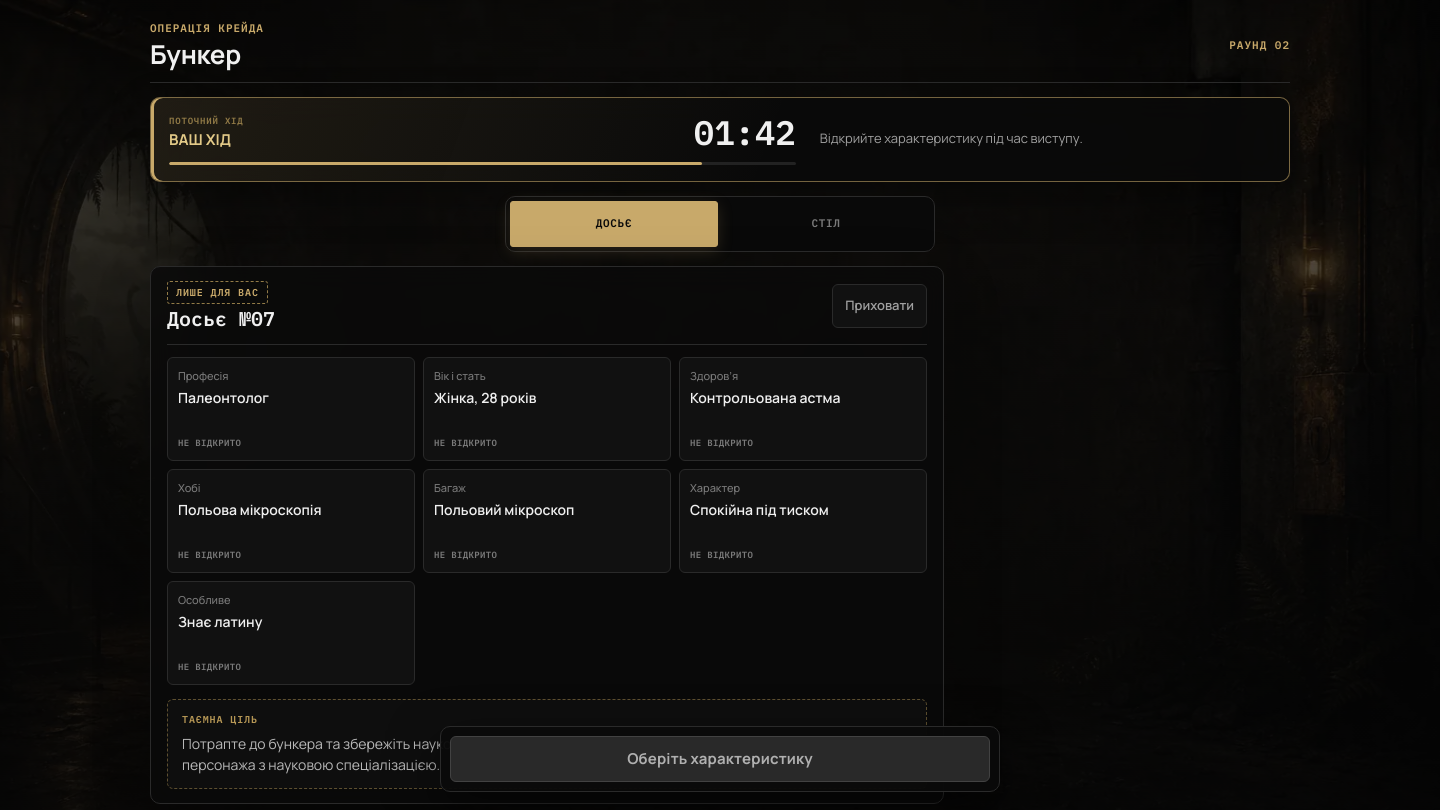
Test: App interactions › hides and restores the private dossier
Click the button "Приховати": {"x": 880, "y": 306} x1=832 y1=284 x2=927 y2=328
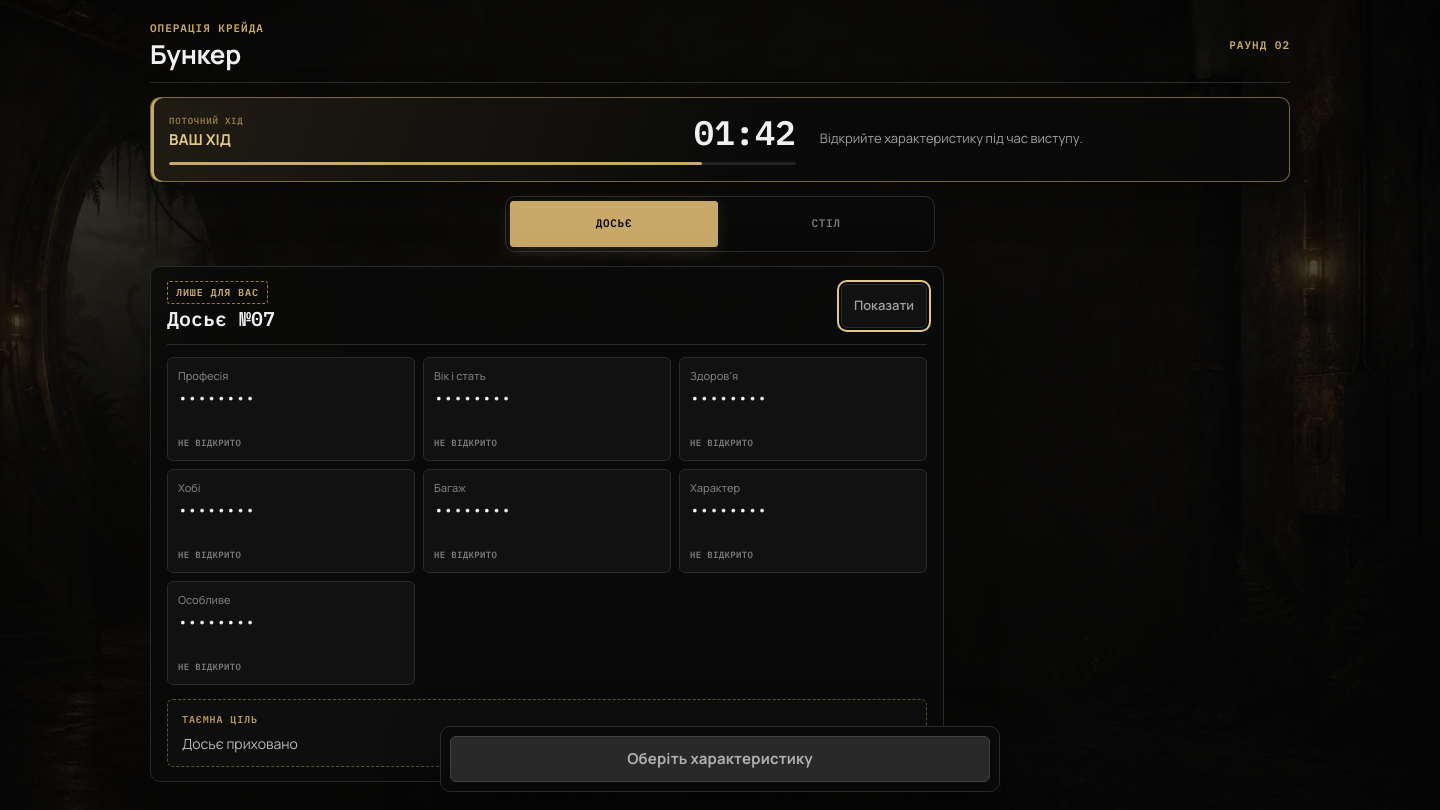
expect the button "Контрольована астма" is gone: met
expect the text "Досьє приховано" is shown: met, box x1=182 y1=734 x2=298 y2=753
Click the button "Показати": {"x": 884, "y": 306} x1=841 y1=284 x2=927 y2=328
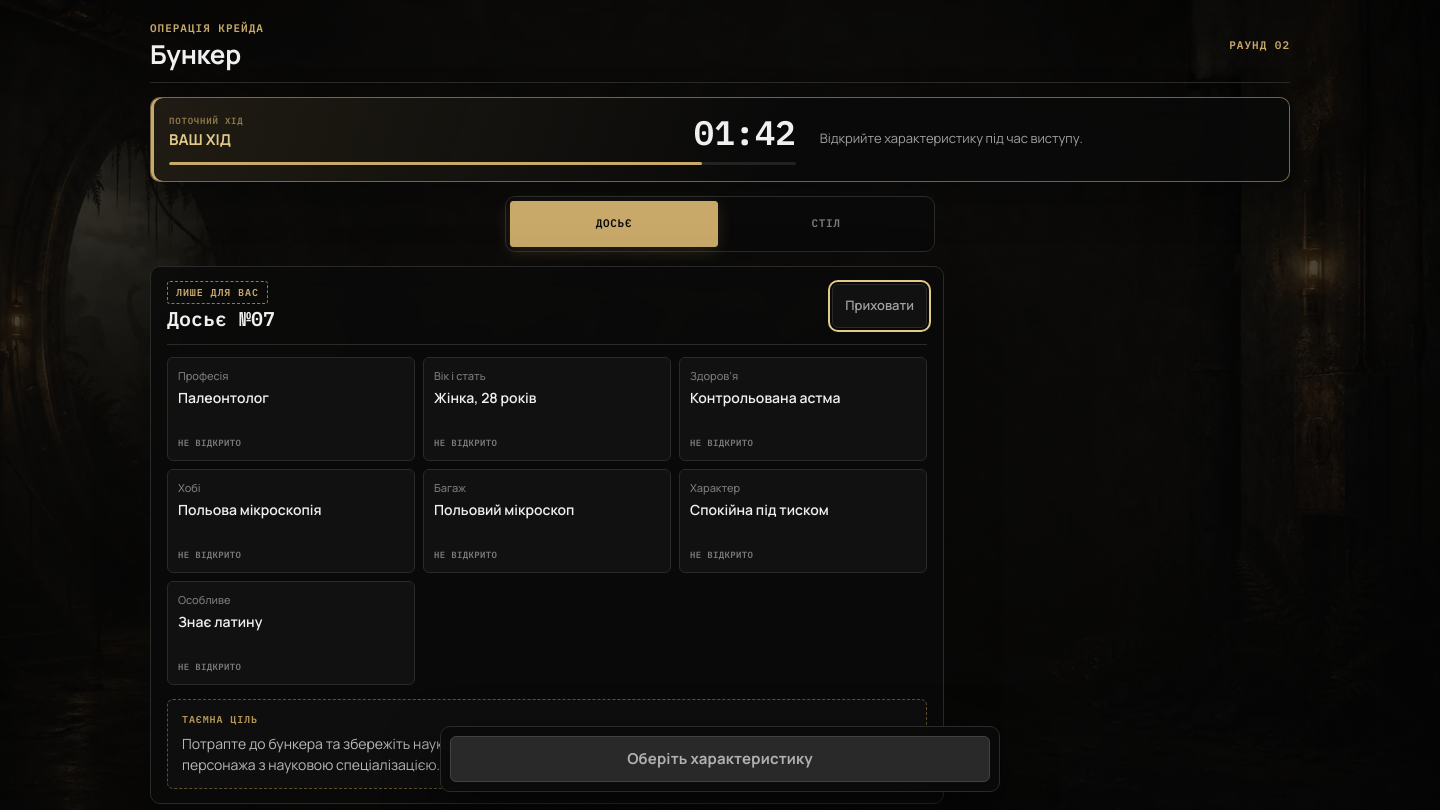
expect the text "Контрольована астма" is shown: met, box x1=690 y1=388 x2=841 y2=407
